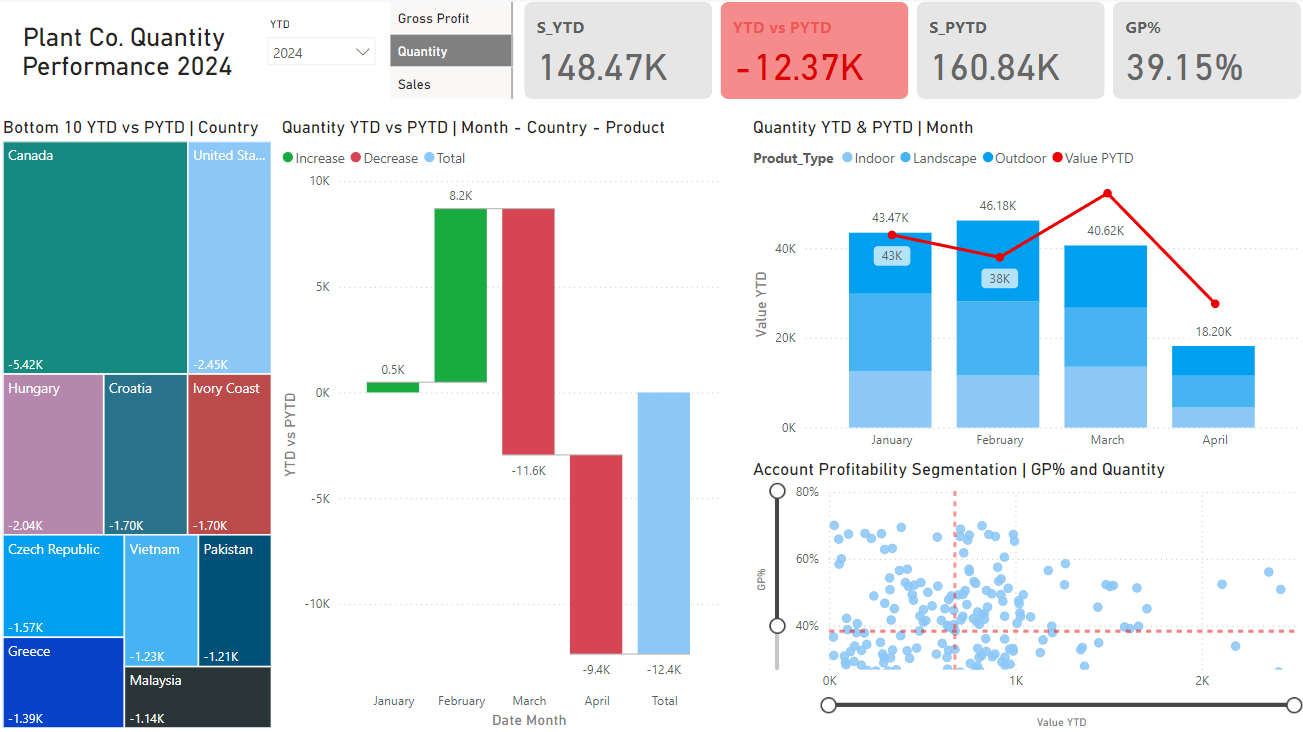

What the dashboard file says about the page in this screenshot:
{"tool":"powerbi","page":{"name":"Performance Report","canvas":[1280,720],"ordinal":0},"visuals":[{"type":"cardVisual","fields":{"Data":["_Measures.S_YTD","_Measures.YTD vs PYTD","_Measures.S_PYTD","_Measures.GP%"]},"box":[509.9,0,770.4,105.2],"z":0},{"type":"advancedSlicerVisual","fields":{"Values":["Slc_Values.Values"]},"box":[379.1,0,130.8,105.2],"z":1000},{"type":"slicer","fields":{"Values":["Dim_Date.Date.Variation.Date Hierarchy.Year"]},"box":[253.1,14.7,126,75.8],"z":2000},{"type":"treemap","title":"Bottom 10 YTD vs PYTD | Country ","fields":{"Values":["_Measures.YTD vs PYTD"],"Group":["dim_account.country"]},"box":[0,117.4,272.7,602.9],"z":3000},{"type":"waterfallChart","fields":{"Y":["_Measures.YTD vs PYTD"],"Category":["Dim_Date.Date.Variation.Date Hierarchy.Month","dim_account.country","dim_product.Produt_Type","dim_product.Product_Name"]},"box":[272.7,117.4,437.8,602.9],"z":4000},{"type":"lineStackedColumnComboChart","fields":{"Y":["_Measures.S_YTD"],"Category":["Dim_Date.Date.Variation.Date Hierarchy.Quarter","Dim_Date.Date.Variation.Date Hierarchy.Month"],"Y2":["_Measures.S_PYTD"],"Series":["dim_product.Produt_Type"]},"box":[733.7,117.4,546.6,333.8],"z":5000},{"type":"scatterChart","fields":{"Y":["_Measures.GP%"],"X":["_Measures.S_YTD"],"Category":["dim_account.Account"]},"box":[733.7,451.2,546.6,269],"z":6000},{"type":"card","fields":{"Values":["_Measures._Report title"]},"box":[0,0,253.1,105.2],"z":7000}]}

Visuals, with their boxes in screenshot pixels (x1, y1, x2, y2), scaled from the page's 1280x720 canvas onto the 1303x732 screenshot:
cardVisual - _Measures.S_YTD x _Measures.YTD vs PYTD: bbox=(519, 0, 1302, 107)
advancedSlicerVisual - Slc_Values.Values: bbox=(386, 0, 519, 107)
slicer - Dim_Date.Date.Variation.Date Hierarchy.Year: bbox=(258, 15, 386, 92)
"Bottom 10 YTD vs PYTD | Country " treemap: bbox=(0, 119, 278, 731)
waterfallChart - _Measures.YTD vs PYTD x Dim_Date.Date.Variation.Date Hierarchy.Month: bbox=(278, 119, 723, 731)
lineStackedColumnComboChart - _Measures.S_YTD x Dim_Date.Date.Variation.Date Hierarchy.Quarter: bbox=(747, 119, 1302, 459)
scatterChart - _Measures.GP% x _Measures.S_YTD: bbox=(747, 459, 1302, 731)
card - _Measures._Report title: bbox=(0, 0, 258, 107)
